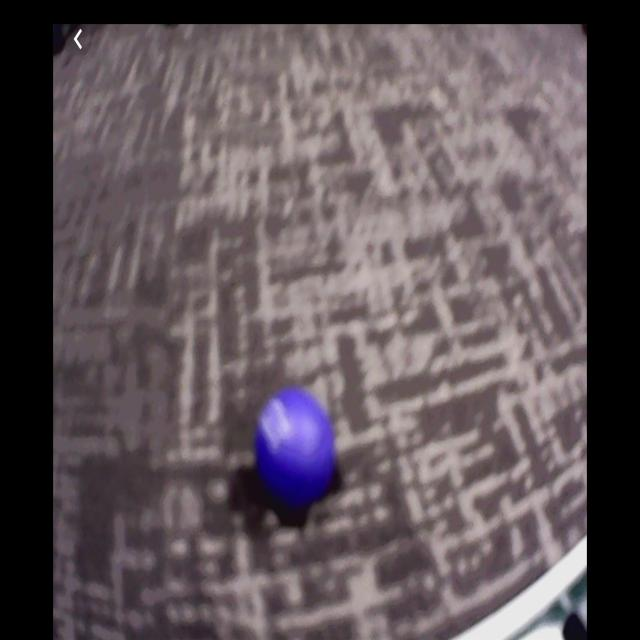ball: (255, 390, 335, 512)
